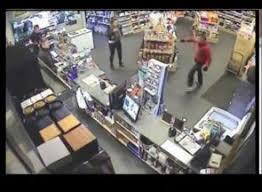weapon: (177, 36, 184, 42)
